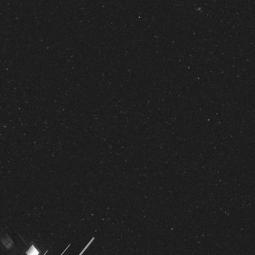soho: (0, 209, 114, 255)
